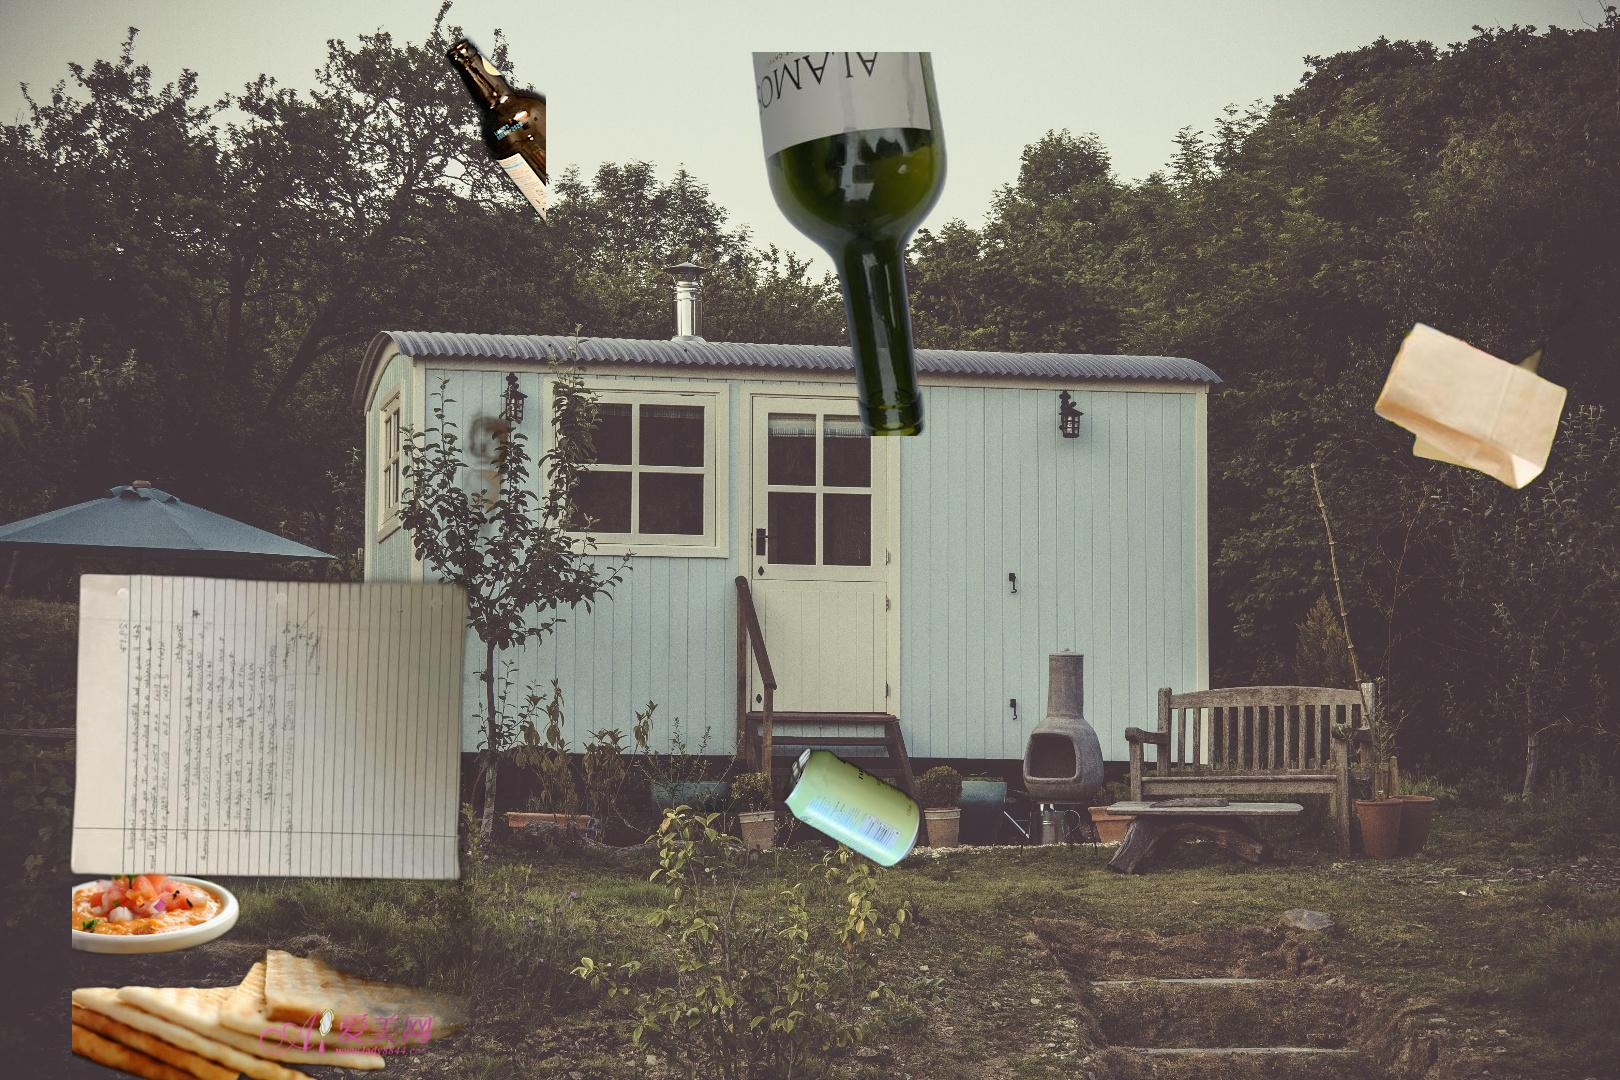biological: (72, 782, 472, 1080)
clothes: (442, 101, 843, 812)
glass: (749, 52, 952, 436), (439, 31, 546, 242)
metal-cans: (779, 742, 925, 873)
paper: (66, 554, 485, 885)
paper-bag: (1348, 237, 1620, 493)
